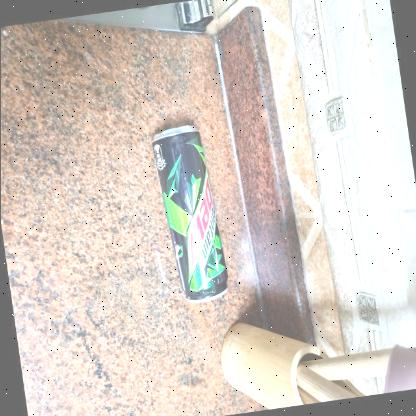Can: (150, 127, 226, 304)
